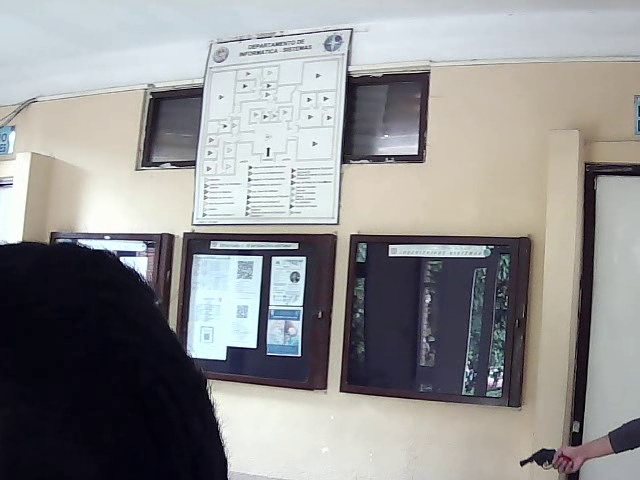pistola: (515, 442, 565, 473)
